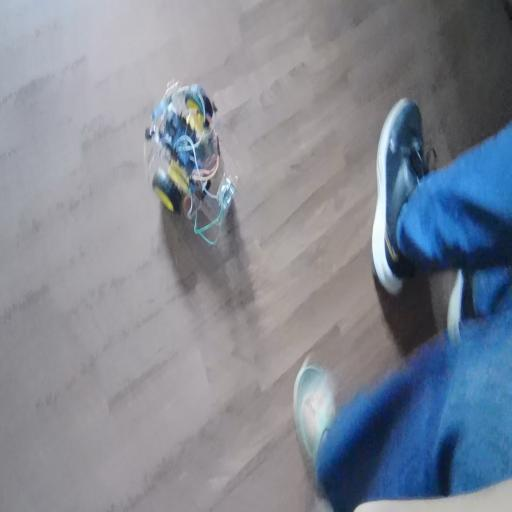car: (143, 68, 258, 283)
